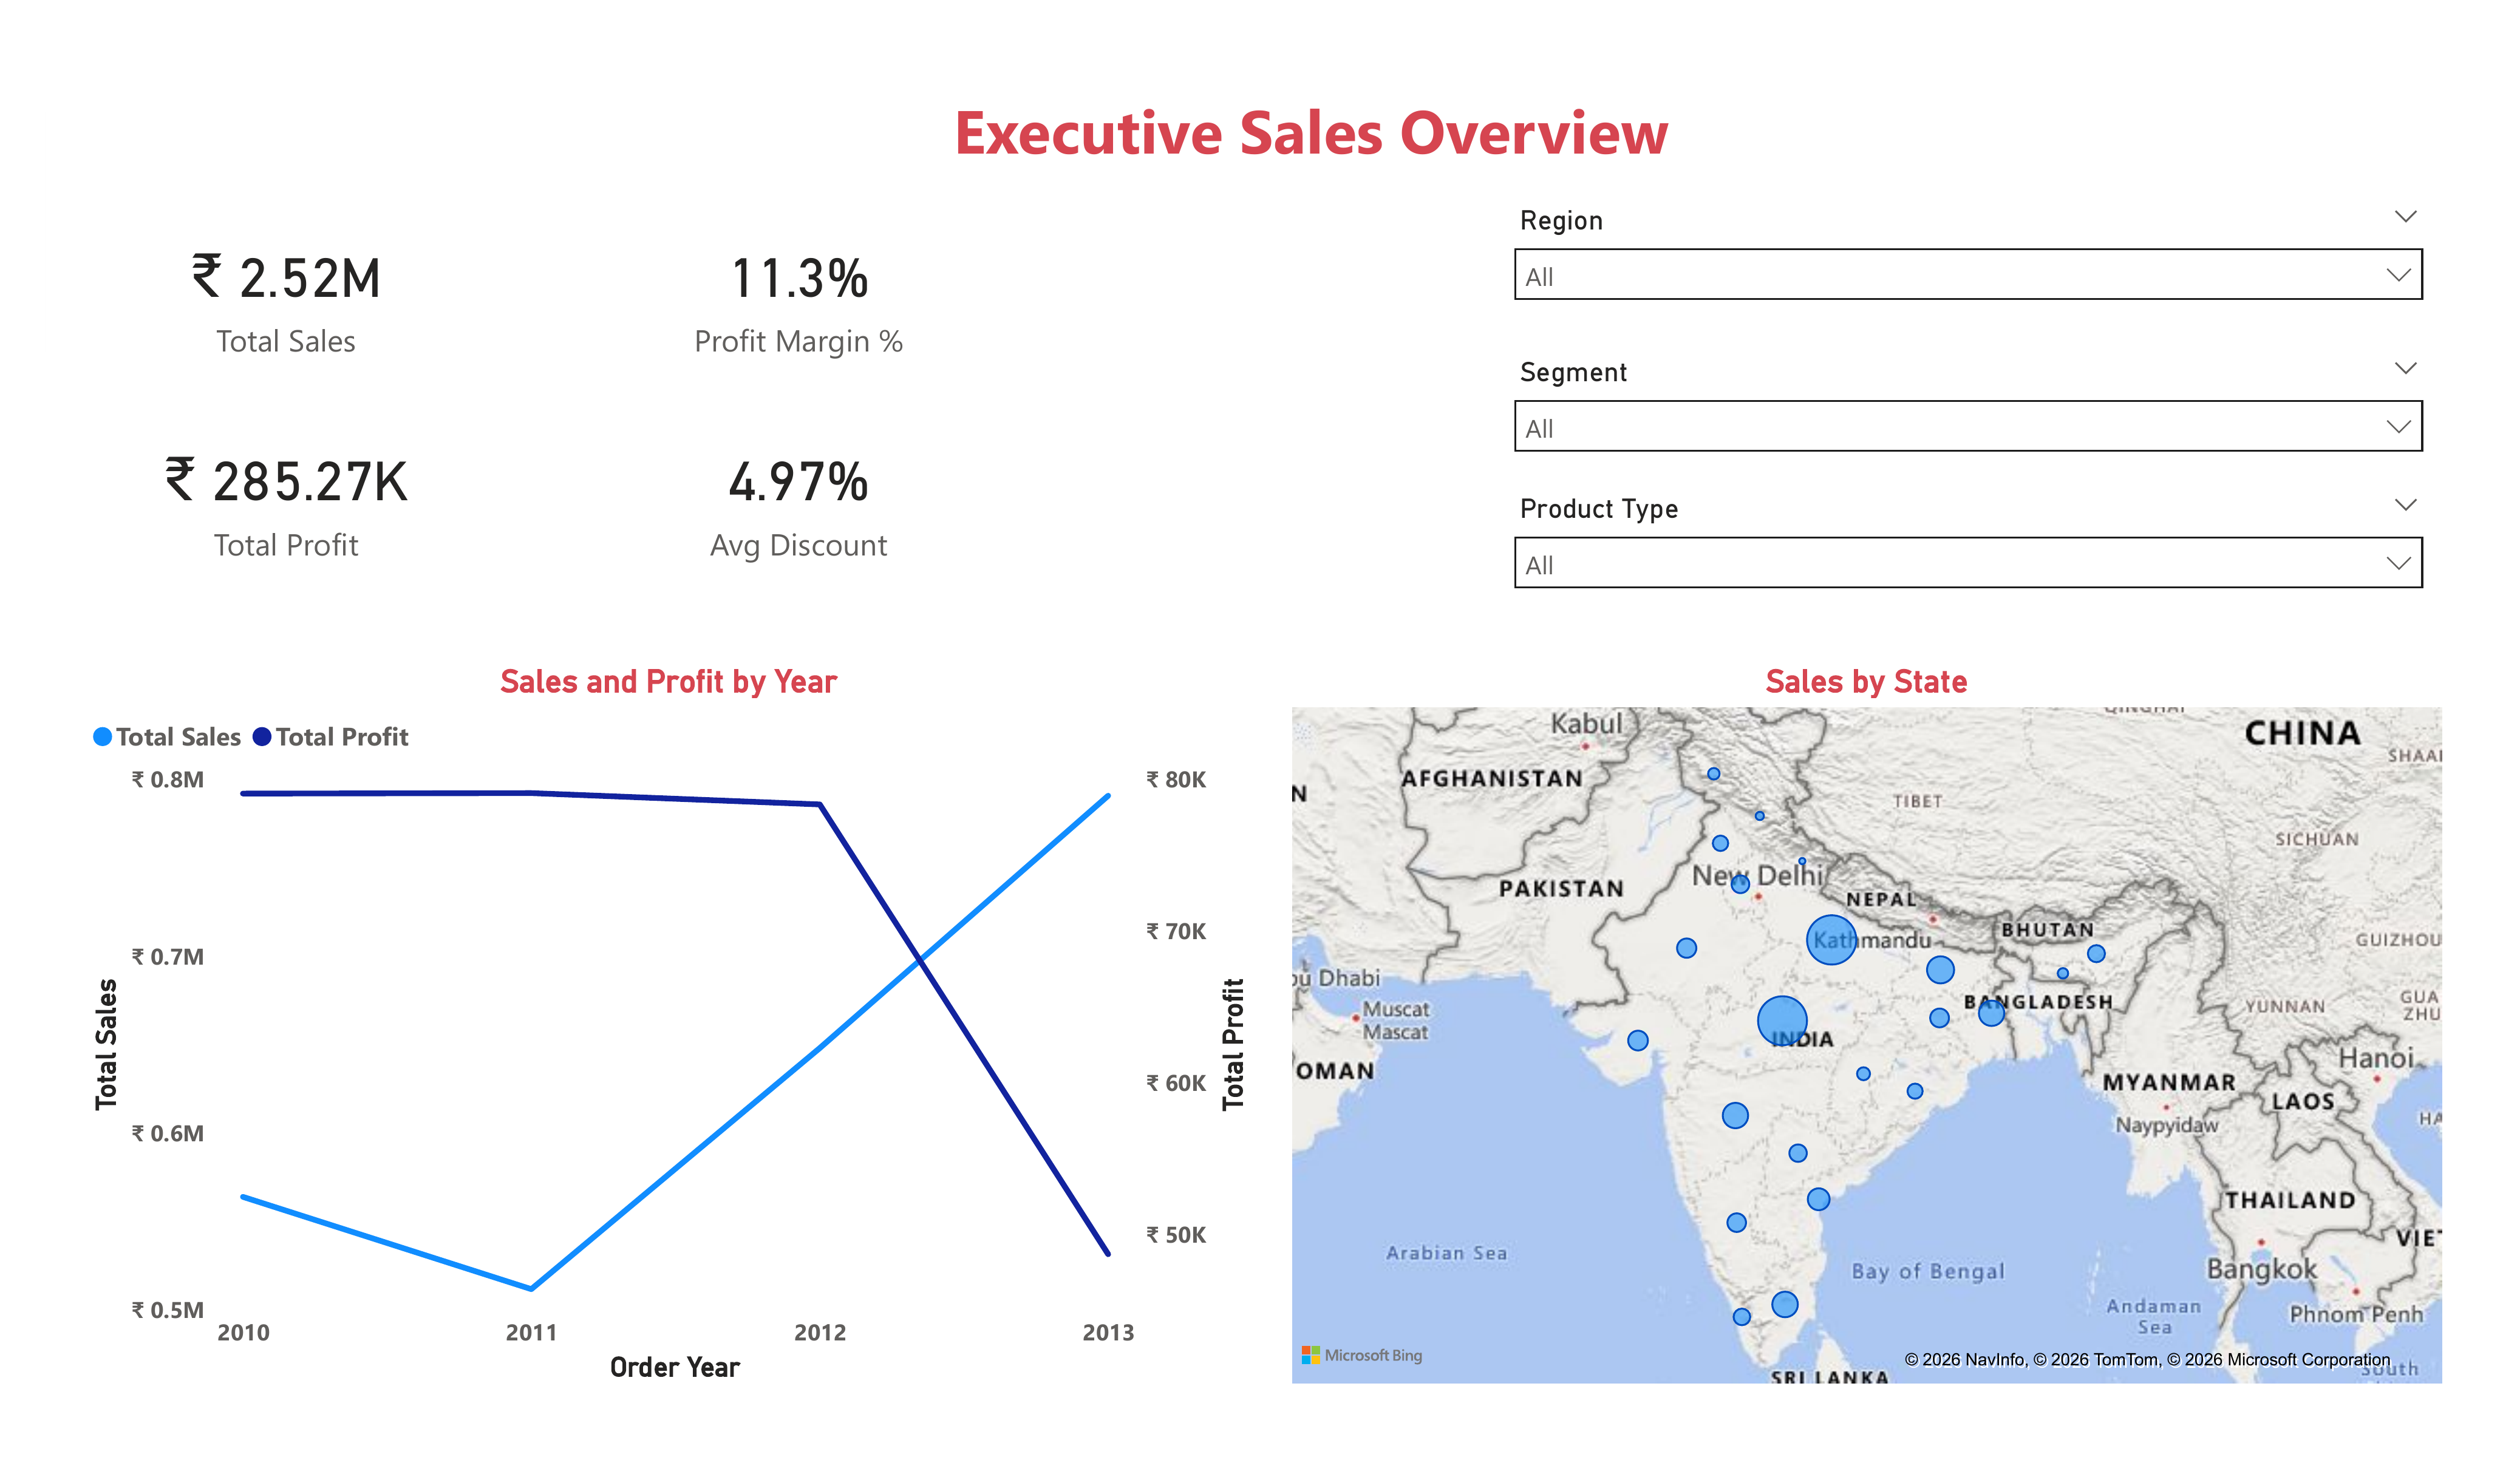

The page's visual inventory and layout, read from the dashboard file:
{"tool":"powerbi","page":{"name":"Overview","canvas":[1280,720],"ordinal":0},"visuals":[{"type":"lineChart","title":"Sales and Profit by Year","fields":{"Y":["Measure.Total Sales"],"Y2":["Measure.Total Profit"],"Category":["Dim_Date.Year"]},"box":[19.1,324.7,618.6,385],"z":0},{"type":"map","title":"Sales by State","fields":{"Category":["Dim_Geography.State"],"Size":["Measure.Total Sales"]},"box":[652.4,324.7,615.7,385],"z":1000},{"type":"card","fields":{"Values":["Measure.Total Sales"]},"box":[19.1,89.6,216,82.3],"z":2000},{"type":"card","fields":{"Values":["Measure.Total Profit"]},"box":[19.1,195.4,216,86.7],"z":3000},{"type":"card","fields":{"Values":["Measure.Profit Margin %"]},"box":[286.5,89.6,220.4,82.3],"z":4000},{"type":"card","fields":{"Values":["Measure.Avg Discount"]},"box":[286.5,195.4,220.4,86.7],"z":5000},{"type":"slicer","fields":{"Values":["Dim_Geography.Region"]},"box":[763.9,78.6,499,73.5],"z":6000},{"type":"slicer","fields":{"Values":["Dim_Customer.Segment"]},"box":[763.9,158.9,499,71.8],"z":7000},{"type":"slicer","fields":{"Values":["Dim_Product.Product Type"]},"box":[763.9,230.7,499,71.8],"z":8000},{"type":"textbox","box":[42.7,17.1,1189.4,61.5],"z":9000}]}

Visuals, with their boxes on the page's 1280x720 design canvas (x1, y1, x2, y2). These are canvas units, not pixel positions in the 2520x1457 screenshot, which may show the page scaled, cropped or inside an application window:
"Sales and Profit by Year" lineChart: bbox=(19, 325, 638, 710)
"Sales by State" map: bbox=(652, 325, 1268, 710)
card - Measure.Total Sales: bbox=(19, 90, 235, 172)
card - Measure.Total Profit: bbox=(19, 195, 235, 282)
card - Measure.Profit Margin %: bbox=(286, 90, 507, 172)
card - Measure.Avg Discount: bbox=(286, 195, 507, 282)
slicer - Dim_Geography.Region: bbox=(764, 79, 1263, 152)
slicer - Dim_Customer.Segment: bbox=(764, 159, 1263, 231)
slicer - Dim_Product.Product Type: bbox=(764, 231, 1263, 302)
textbox: bbox=(43, 17, 1232, 79)
